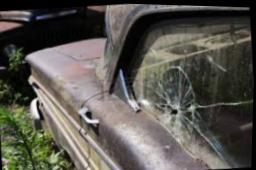Door: (78, 53, 254, 170)
